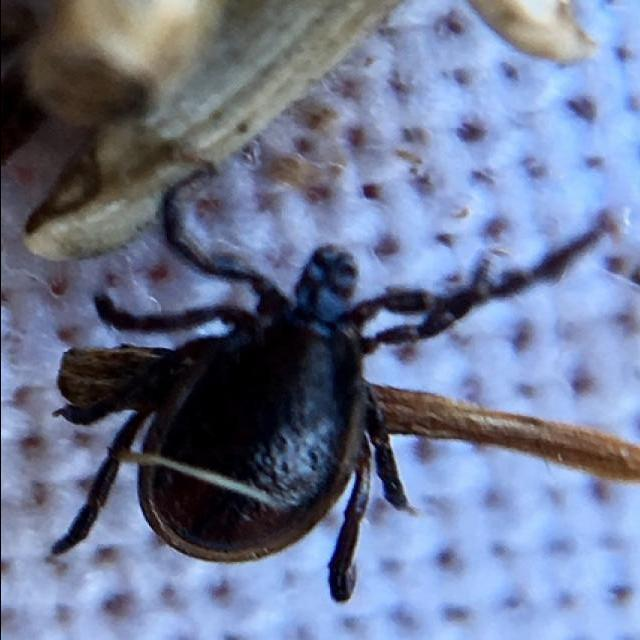Ixodes Ricinus-M: (49, 193, 604, 604)
